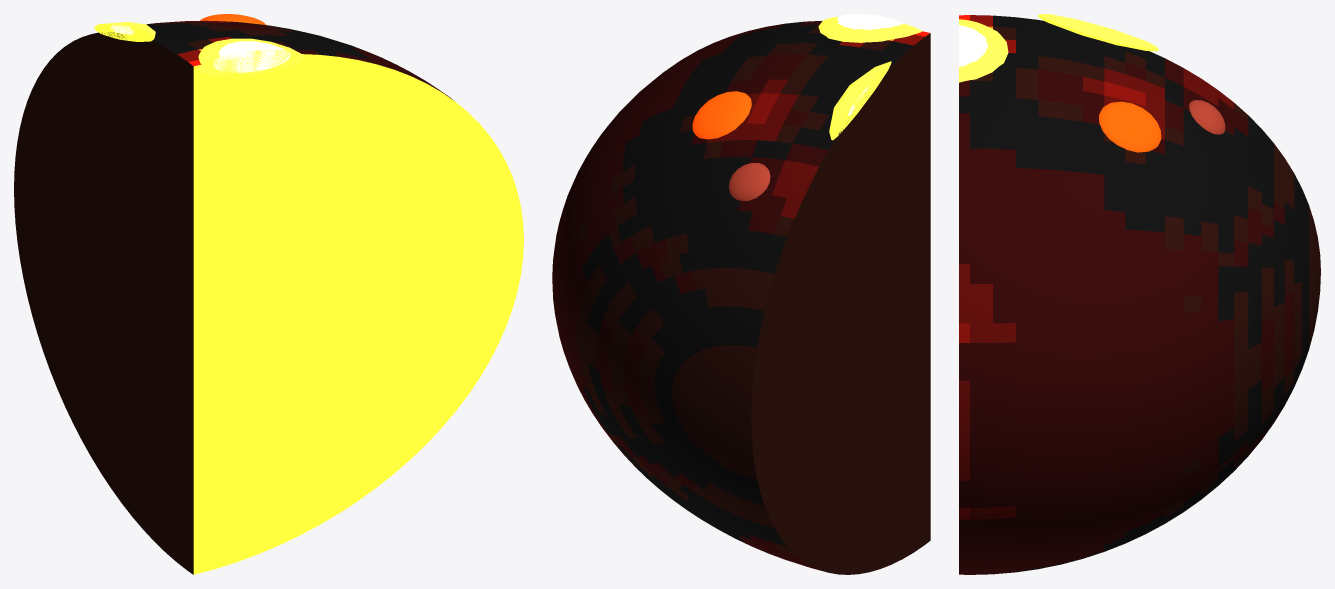
File: dark_orb_tr.glb
3 views of the same model, side by side, from view 1: azimuth 30°, elevation 25°; view 2: azimuth 150°, elevation 25°; view 3: azimuth 270°, elevation 25° (orthographic).
Visible parts, largest first — view 1: dark_orb_tr_orb_shell, dark_orb_tr_orb_eye2_rim, dark_orb_tr_orb_eye2, dark_orb_tr_orb_eye_rim; view 2: dark_orb_tr_orb_shell, dark_orb_tr_orb_ember, dark_orb_tr_orb_eye_rim, dark_orb_tr_orb_eye2_rim, dark_orb_tr_orb_ember2, dark_orb_tr_orb_eye2; view 3: dark_orb_tr_orb_shell, dark_orb_tr_orb_ember, dark_orb_tr_orb_eye2_rim, dark_orb_tr_orb_eye_rim, dark_orb_tr_orb_eye2, dark_orb_tr_orb_ember2.
Boxes of the visible parts, x1=… form: dark_orb_tr_orb_shell: x1=14, y1=20, x2=523, y2=574; dark_orb_tr_orb_eye2_rim: x1=198, y1=38, x2=304, y2=76; dark_orb_tr_orb_eye2: x1=213, y1=41, x2=290, y2=72; dark_orb_tr_orb_eye_rim: x1=94, y1=22, x2=155, y2=41; dark_orb_tr_orb_shell: x1=552, y1=20, x2=930, y2=574; dark_orb_tr_orb_ember: x1=692, y1=91, x2=751, y2=139; dark_orb_tr_orb_eye_rim: x1=829, y1=61, x2=891, y2=140; dark_orb_tr_orb_eye2_rim: x1=818, y1=17, x2=922, y2=42; dark_orb_tr_orb_ember2: x1=728, y1=163, x2=770, y2=200; dark_orb_tr_orb_eye2: x1=837, y1=14, x2=903, y2=29; dark_orb_tr_orb_shell: x1=959, y1=15, x2=1320, y2=574; dark_orb_tr_orb_ember: x1=1099, y1=101, x2=1161, y2=152; dark_orb_tr_orb_eye2_rim: x1=959, y1=19, x2=1008, y2=82; dark_orb_tr_orb_eye_rim: x1=1038, y1=14, x2=1158, y2=51; dark_orb_tr_orb_eye2: x1=959, y1=25, x2=987, y2=66; dark_orb_tr_orb_ember2: x1=1189, y1=100, x2=1225, y2=134.
Bounding box in the file's own units: 16.99 × 25.23 × 15.99.
